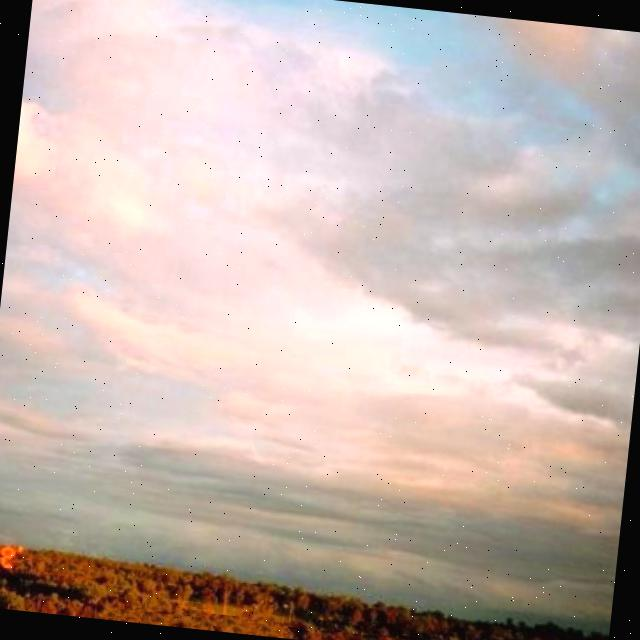Sc: (1, 1, 640, 522)
